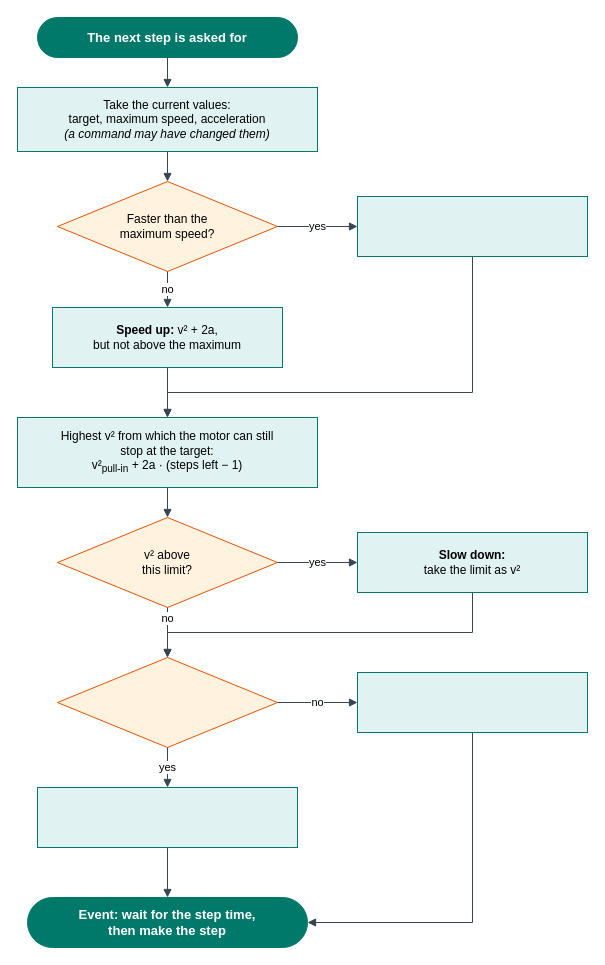
Image size: 605x965. Some labels were removed from this diagram. The centre of each missing label's shape, as x and y in pixels:
Slow down: v² − 2a, but not below the maximum: [472,226]
Step time as for the step before: [472,702]
v = √(v²) step time = 2 / (v before + v after ): [167,817]
v² changed in this step?: [167,702]
